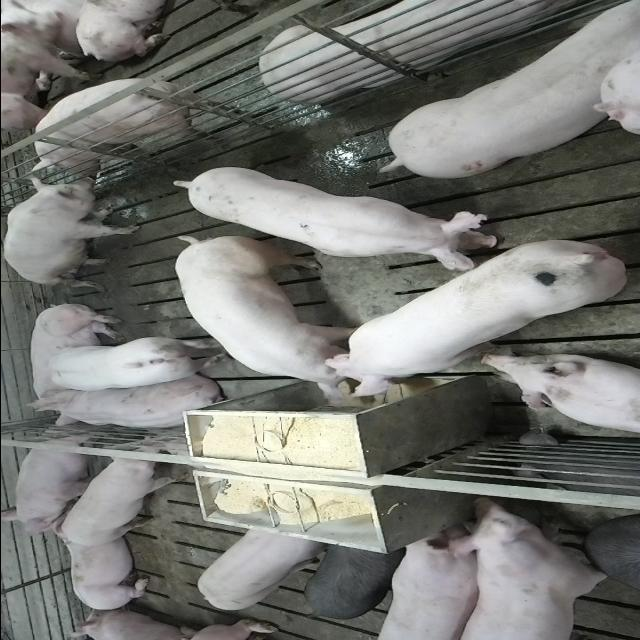Feeding: (321, 230, 627, 398), (170, 240, 375, 414)
Lateral_lying: (20, 303, 120, 415)
Sitting: (2, 175, 142, 287)
Standing: (375, 5, 634, 182), (164, 170, 496, 274), (446, 499, 618, 638), (28, 79, 238, 177), (62, 442, 187, 546), (369, 526, 481, 637), (197, 524, 327, 612), (46, 334, 230, 392), (302, 542, 408, 622)
Sternal_lying: (260, 0, 597, 100), (482, 354, 640, 437), (49, 517, 154, 613)
